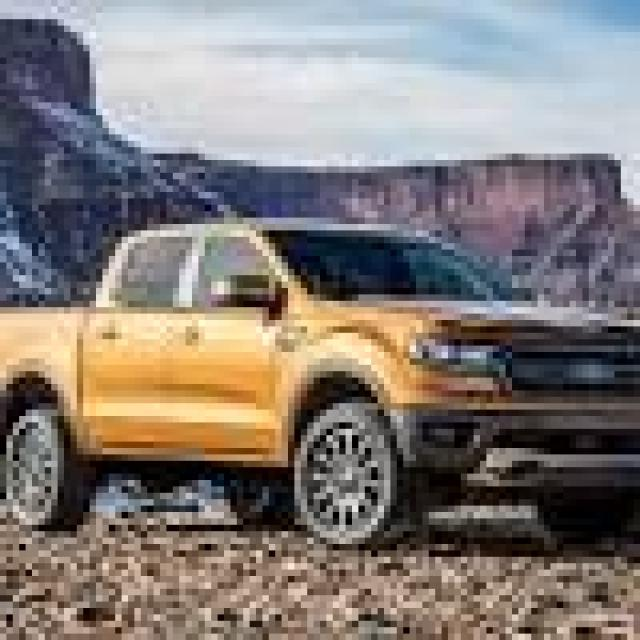Pickup Trucks: (6, 211, 640, 538)
